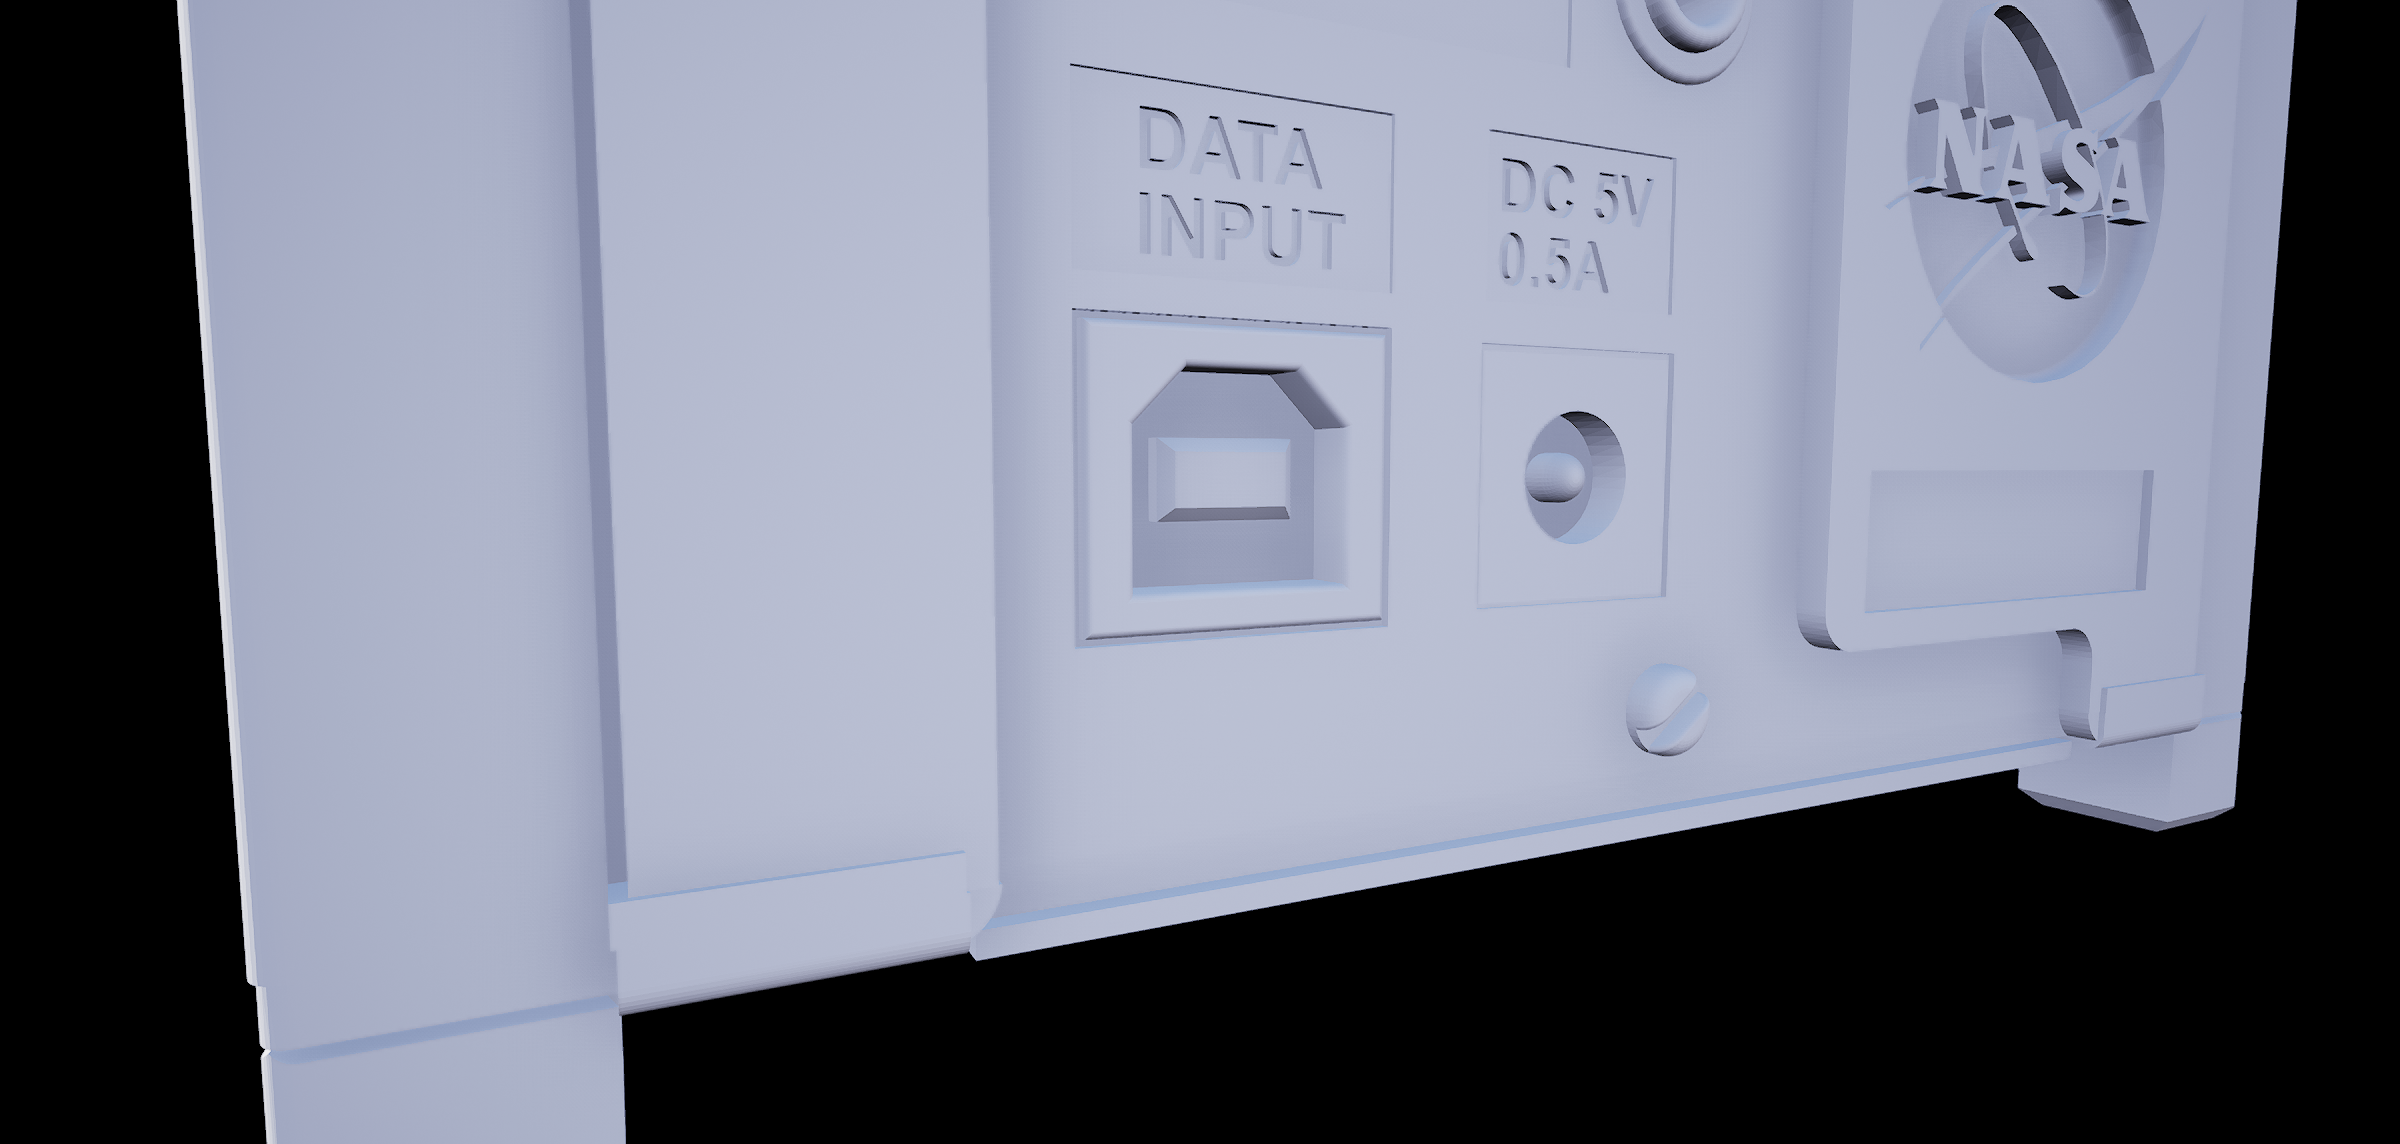aux: (1593, 2, 1782, 100)
dc: (1511, 400, 1638, 554)
usb: (1127, 348, 1368, 613)
